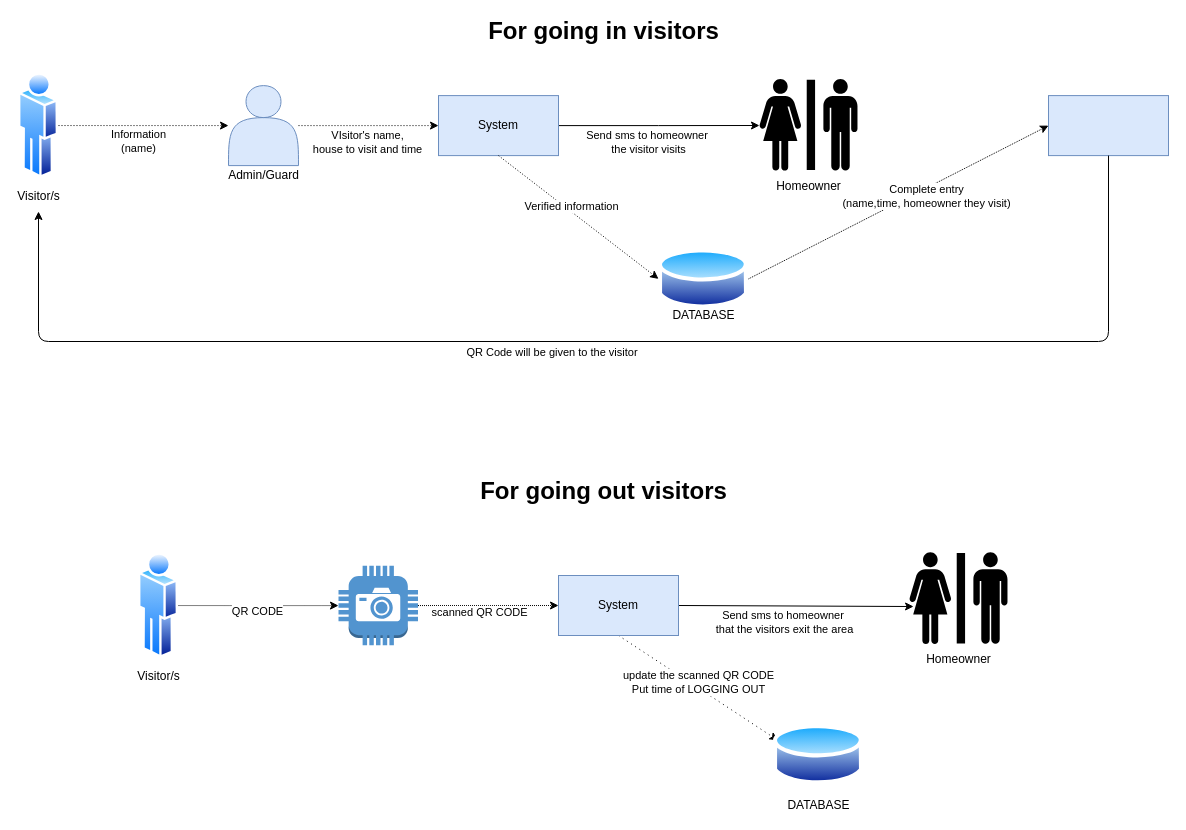
This 1186x830 diagram has some shape labels left out. Each missing label, with the centre of its shape:
"Generate QR code" belongs at pixel 1108 125.
"Scanner" belongs at pixel 378 605.
